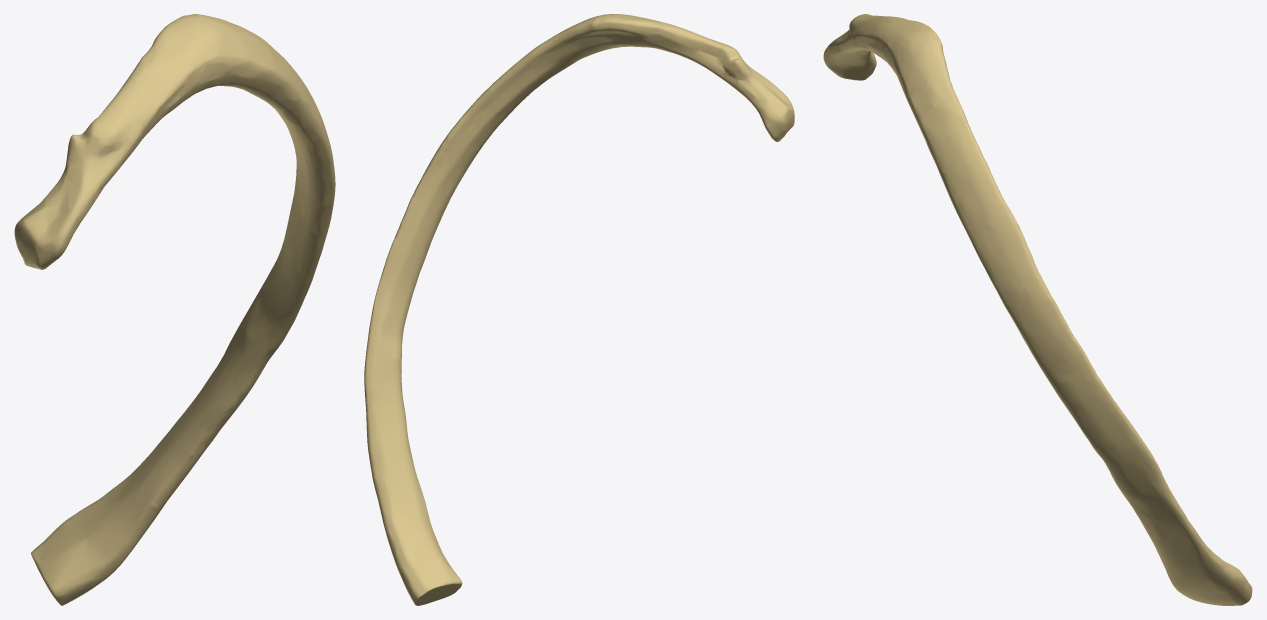
3 renders of one model, left to right at view 1: azimuth 30°, elevation 25°; view 2: azimuth 150°, elevation 25°; view 3: azimuth 270°, elevation 25°, orthographic. The views are drawn at different scales.
Parts seen in each view (by area): view 1: 左侧第六肋; view 2: 左侧第六肋; view 3: 左侧第六肋.
Part boxes in pixels (left/top/right/bottom): 左侧第六肋: left=14, top=14, right=335, bottom=605; 左侧第六肋: left=364, top=14, right=794, bottom=605; 左侧第六肋: left=823, top=14, right=1252, bottom=605.
Bounding box in the file's own units: 0.1814 × 0.2891 × 0.2042.
